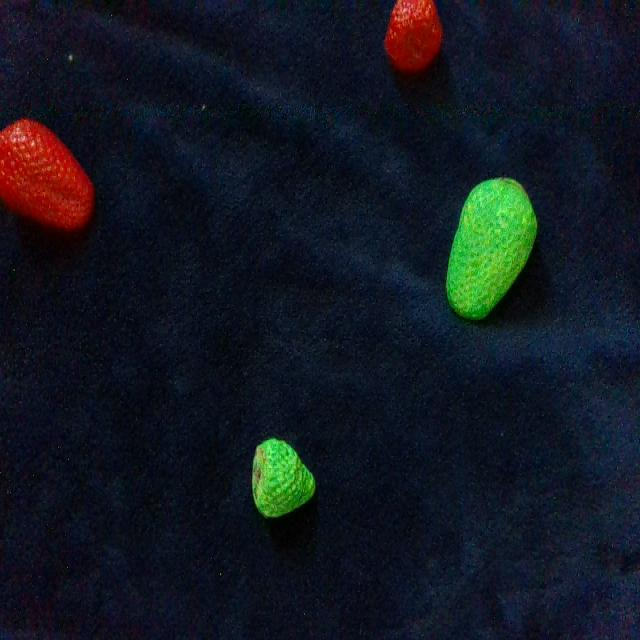chica_roja: (384, 0, 442, 72)
grande_roja: (0, 119, 94, 229)
verde: (446, 179, 536, 317), (253, 440, 314, 516)
